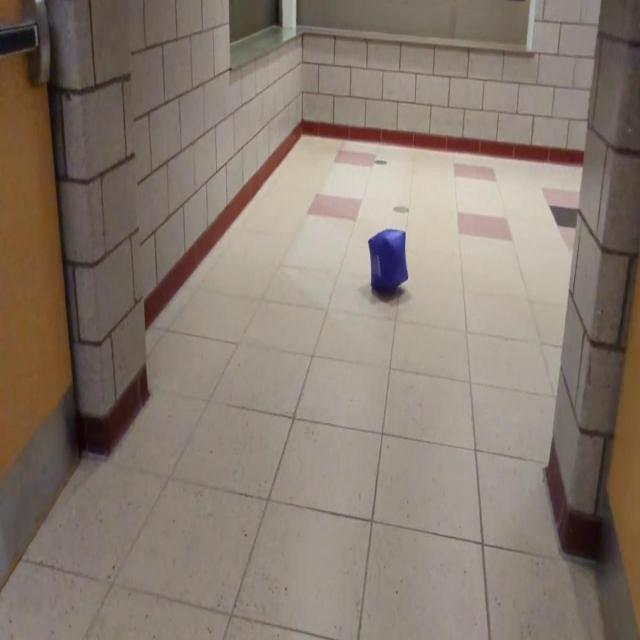frc_cube: (368, 228, 409, 292)
